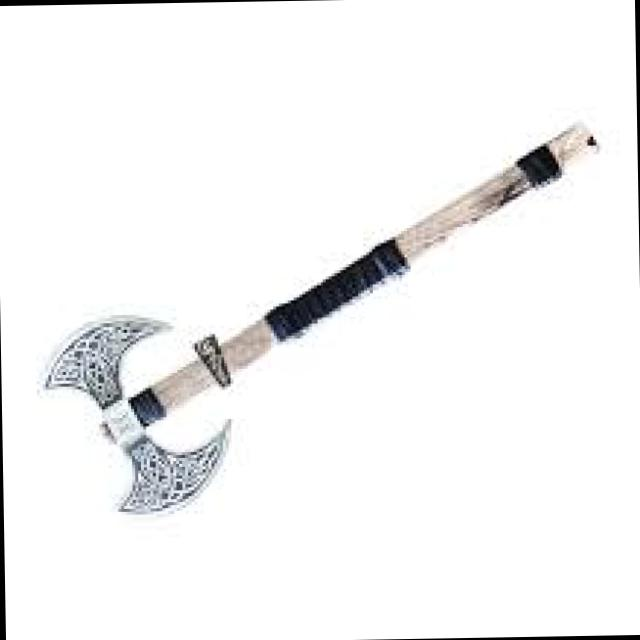Gun: (25, 102, 615, 535)
